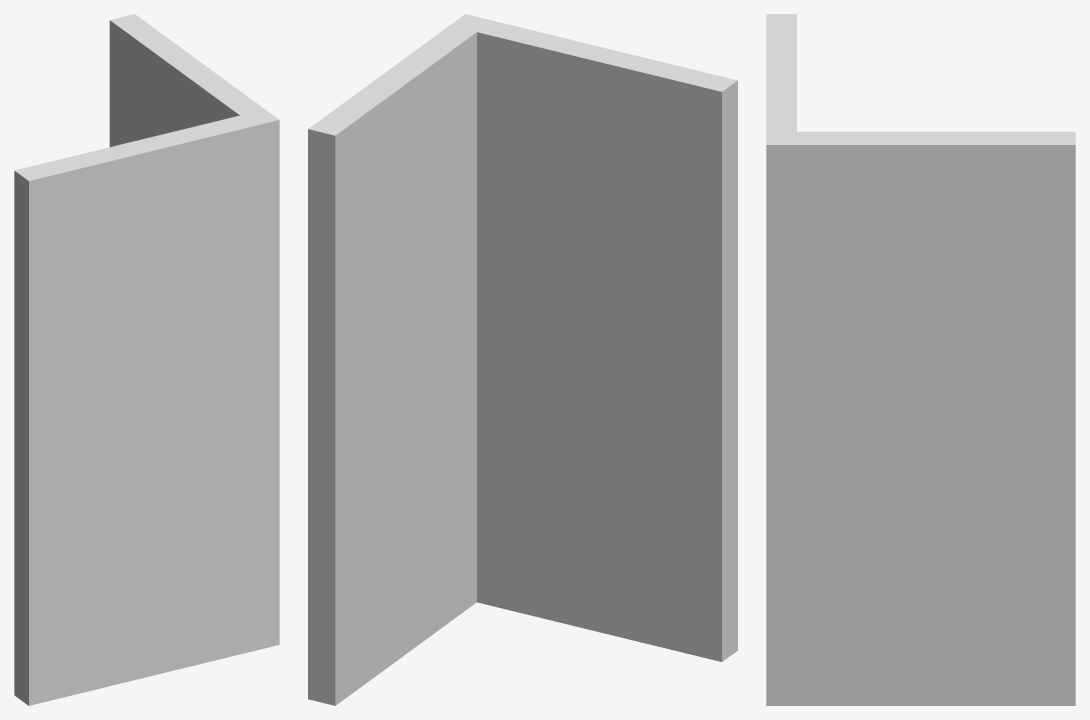
The model's file is PlainCorner.fbx.
3 views of the same model, side by side, from view 1: azimuth 30°, elevation 25°; view 2: azimuth 150°, elevation 25°; view 3: azimuth 270°, elevation 25° (orthographic). The views are drawn at different scales.
Visible parts, largest first — view 1: PlainCorner; view 2: PlainCorner; view 3: PlainCorner.
Boxes of the visible parts, x1=… form: PlainCorner: x1=14, y1=14, x2=279, y2=705; PlainCorner: x1=308, y1=14, x2=737, y2=705; PlainCorner: x1=766, y1=14, x2=1075, y2=705.
Size of the model in its own units: 100 by 200 by 100.
